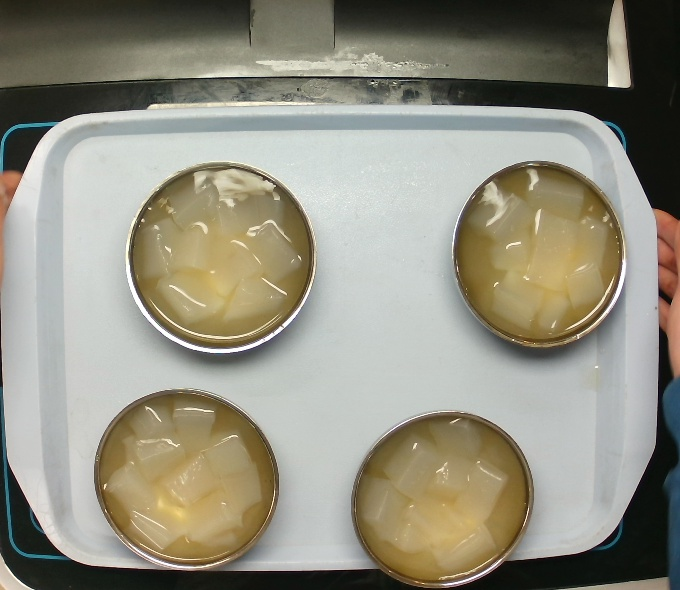wcq-YeGuoLi: (444, 153, 635, 356), (129, 158, 314, 356), (94, 384, 282, 567), (348, 409, 542, 584)
